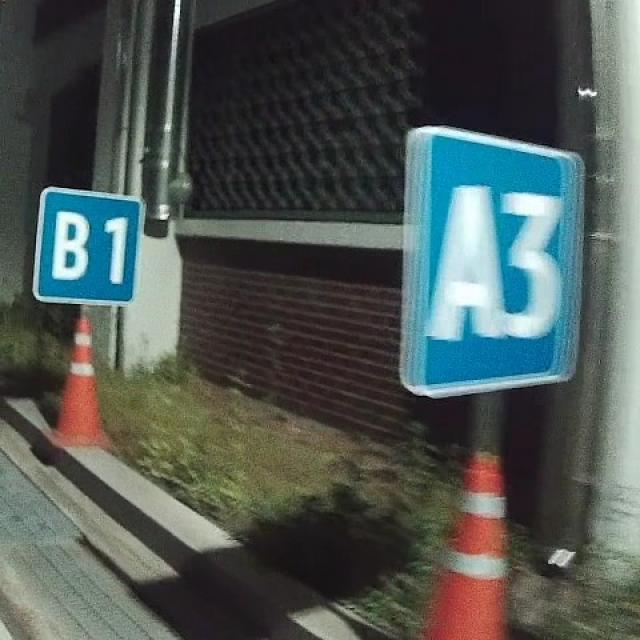a3: (392, 119, 588, 412)
b1: (29, 182, 153, 315)
